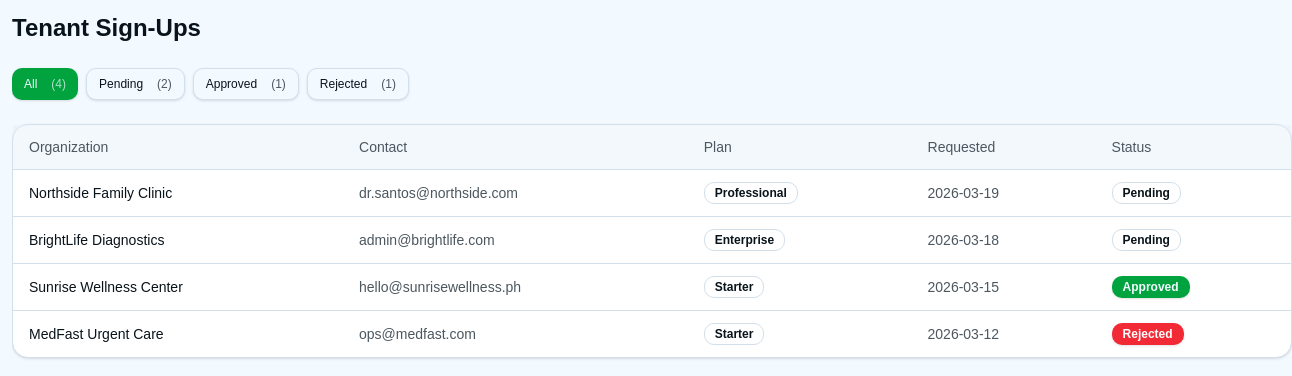
Test: SignUpsPage › Pending filter shows only pending requests
This screenshot has width=1292, height=376.
Click the button "Pending (2)": (135, 84) [86,68,185,100]
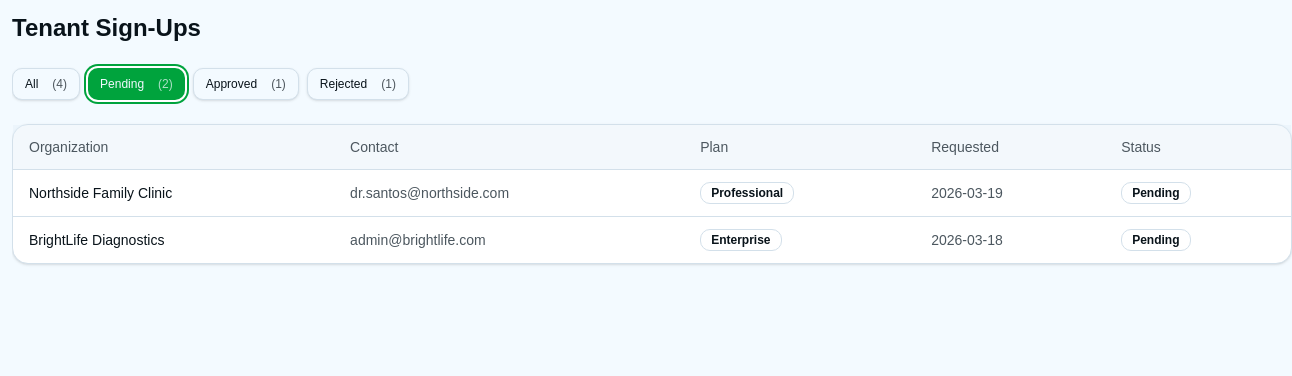
Check: the text "Northside Family Clinic" is shown, box [13,170,334,216]
Check: the text "Sunrise Wellness Center" is gone
Check: the text "MedFast Urgent Care" is gone
